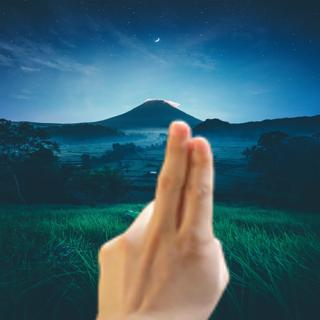DHAVE: (87, 113, 236, 320)
